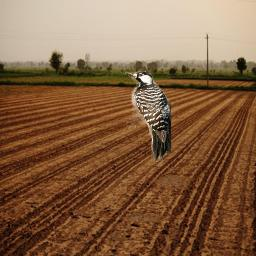Woodpecker: (125, 71, 171, 163)
